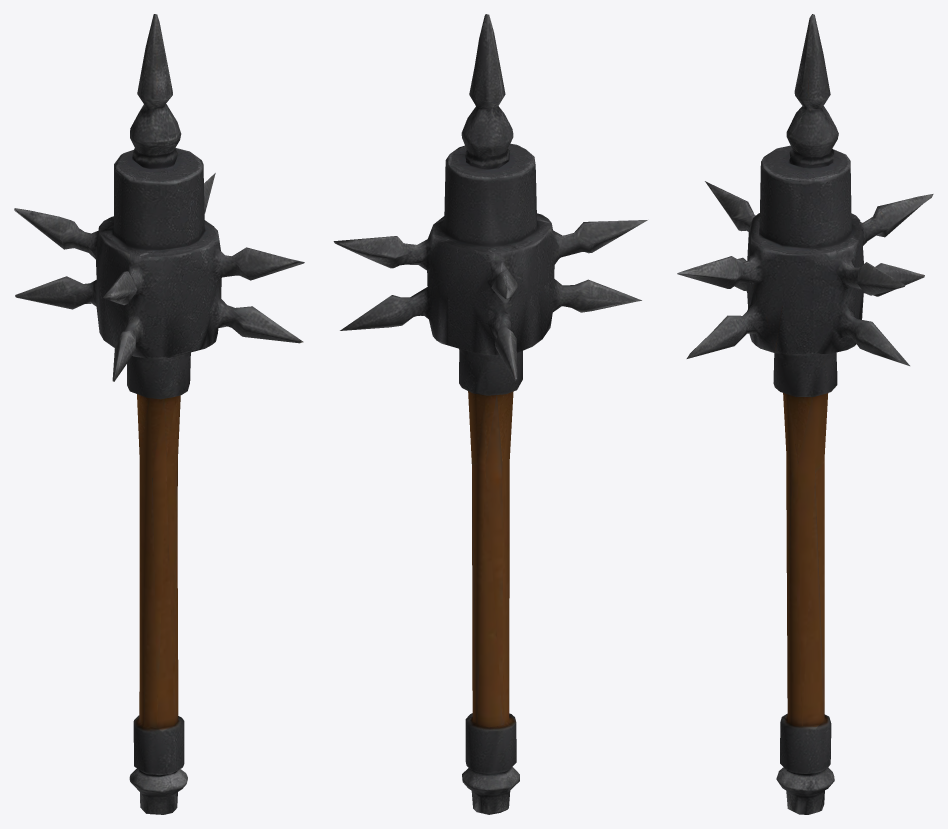
Rendered from wpn_chuy.glb.
The picture shows the model from 3 angles, left to right: view 1: azimuth 30°, elevation 25°; view 2: azimuth 150°, elevation 25°; view 3: azimuth 270°, elevation 25°; orthographic projection.
Bounding box in the file's own units: 0.5348 × 1.9 × 0.5552.
1 material, 1 textured.
